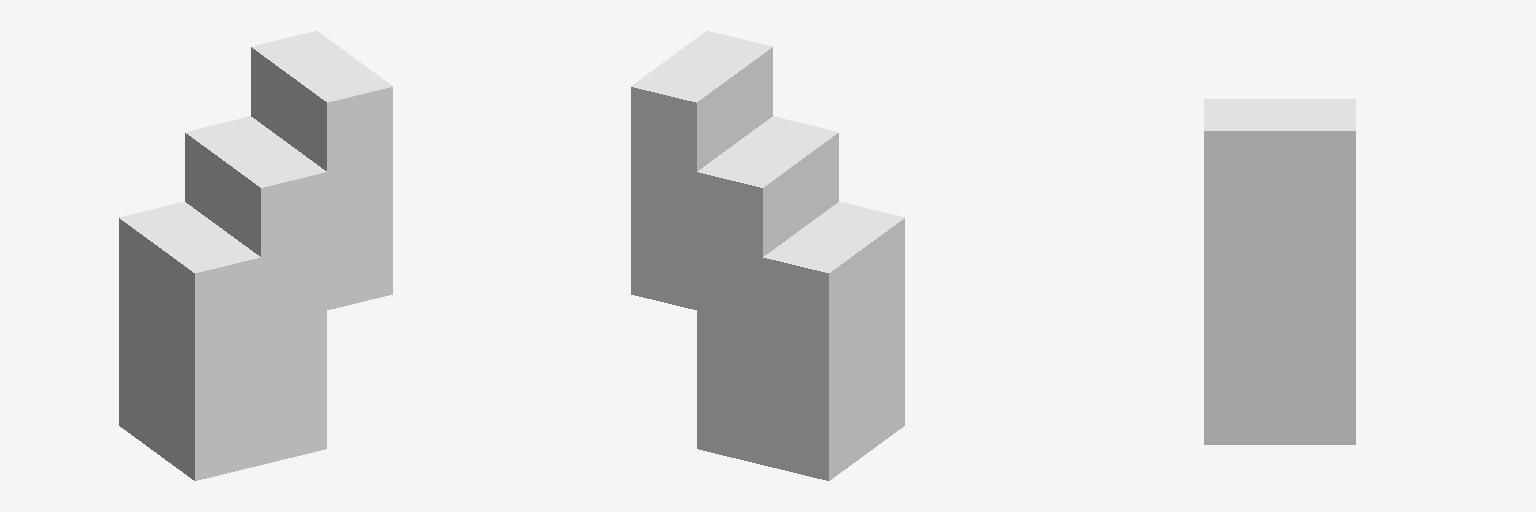
The model's file is piraterighthand.obj.
3 renders of one model, left to right at view 1: azimuth 30°, elevation 25°; view 2: azimuth 150°, elevation 25°; view 3: azimuth 270°, elevation 25°, orthographic.
Visible parts, largest first — view 1: object 1; view 2: object 1; view 3: object 1.
Boxes of the visible parts, x1=… form: object 1: x1=119, y1=31, x2=392, y2=480; object 1: x1=631, y1=31, x2=904, y2=480; object 1: x1=1204, y1=99, x2=1355, y2=444.
Size of the model in its own units: 0.3 by 0.5 by 0.2.